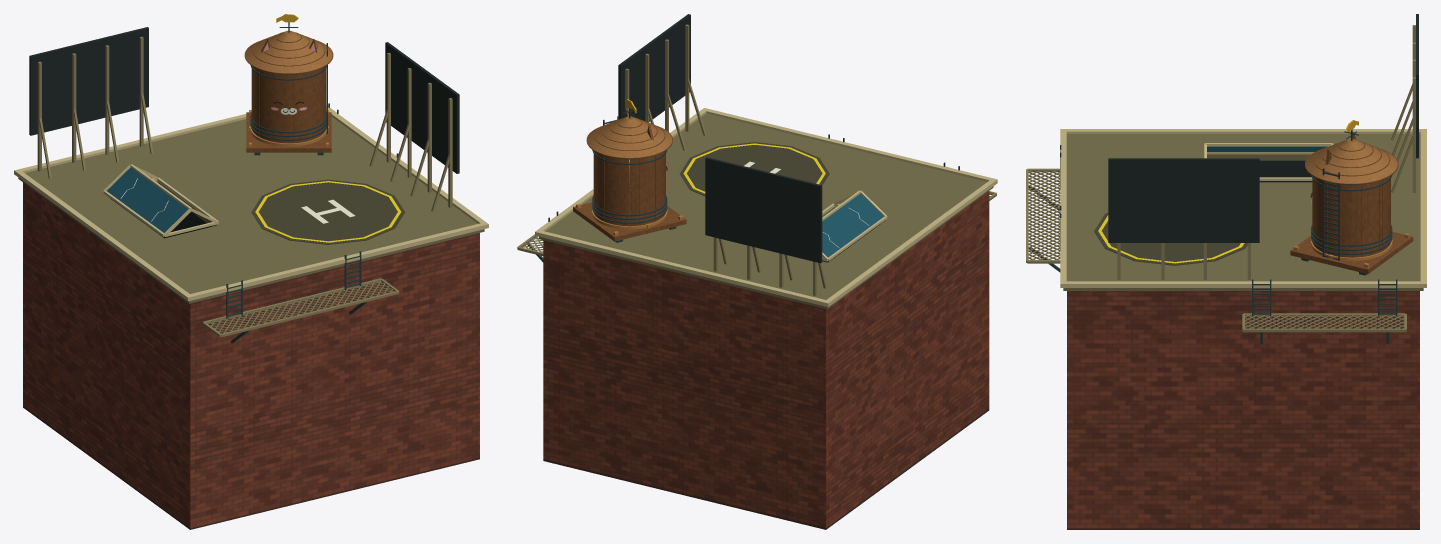
Rendered from WaterTower_Map.fbx.
3 views of the same model, side by side, from view 1: azimuth 30°, elevation 25°; view 2: azimuth 150°, elevation 25°; view 3: azimuth 270°, elevation 25° (orthographic). The views are drawn at different scales.
Parts seen in each view (by area): view 1: Building_BrickFacades, Roof_Slab_WithSkylightOpening, Billboard_Back_Panel, Helipad_Dodecagon, Billboard_Right_Panel, SD_00_FrontCurvedPanel_WithFace, Front_ServiceGrating, Tank_ConicalCap_Fixed, Skylight_Glass_LeftOnly, Coping_End_-10, Coping_Side_-10, Skylight_Frame (+6 smaller); view 2: Building_BrickFacades, Roof_Slab_WithSkylightOpening, Billboard_Back_Panel, Tank_RearShell_Fixed, Billboard_Right_Panel, Helipad_Dodecagon, Tank_ConicalCap_Fixed, Coping_End_10, Skylight_Glass_LeftOnly, Coping_End_-10, Coping_Side_-10, Tank_Platform (+3 smaller); view 3: Building_BrickFacades, Roof_Slab_WithSkylightOpening, Billboard_Right_Panel, Tank_RearShell_Fixed, Tank_ConicalCap_Fixed, Right_ServiceGrating, Front_ServiceGrating, Coping_Side_10, Helipad_Dodecagon, Coping_Side_-10, Tank_Platform, Coping_End_10 (+5 smaller).
Boxes of the visible parts, x1,y1,x2,y2 form: Building_BrickFacades: [23, 182, 479, 528]; Roof_Slab_WithSkylightOpening: [18, 117, 484, 303]; Billboard_Back_Panel: [29, 27, 148, 135]; Helipad_Dodecagon: [251, 179, 405, 244]; Billboard_Right_Panel: [385, 42, 459, 173]; SD_00_FrontCurvedPanel_WithFace: [261, 71, 316, 143]; Front_ServiceGrating: [202, 278, 399, 337]; Tank_ConicalCap_Fixed: [244, 30, 333, 74]; Skylight_Glass_LeftOnly: [107, 167, 187, 232]; Coping_End_-10: [190, 223, 483, 299]; Coping_Side_-10: [14, 169, 192, 301]; Skylight_Frame: [103, 164, 218, 236]; Building_BrickFacades: [543, 191, 989, 528]; Roof_Slab_WithSkylightOpening: [539, 113, 993, 309]; Billboard_Back_Panel: [705, 157, 822, 263]; Tank_RearShell_Fixed: [592, 150, 662, 226]; Billboard_Right_Panel: [618, 14, 690, 121]; Helipad_Dodecagon: [680, 142, 829, 196]; Tank_ConicalCap_Fixed: [586, 116, 672, 158]; Coping_End_10: [540, 231, 825, 305]; Skylight_Glass_LeftOnly: [822, 193, 883, 257]; Coping_End_-10: [706, 109, 992, 181]; Coping_Side_-10: [823, 178, 997, 306]; Tank_Platform: [573, 193, 686, 241]; Building_BrickFacades: [1067, 291, 1419, 528]; Roof_Slab_WithSkylightOpening: [1063, 134, 1423, 290]; Billboard_Right_Panel: [1108, 158, 1259, 242]; Tank_RearShell_Fixed: [1316, 175, 1392, 257]; Tank_ConicalCap_Fixed: [1305, 138, 1398, 184]; Right_ServiceGrating: [1242, 313, 1406, 332]; Front_ServiceGrating: [1026, 168, 1060, 263]; Coping_Side_10: [1060, 281, 1426, 287]; Helipad_Dodecagon: [1094, 213, 1247, 265]; Coping_Side_-10: [1060, 129, 1426, 133]; Tank_Platform: [1290, 231, 1413, 273]; Coping_End_10: [1420, 131, 1426, 281].
Size of the model in its own units: 22.25 by 23.25 by 22.25.
17 materials, 17 textured.
